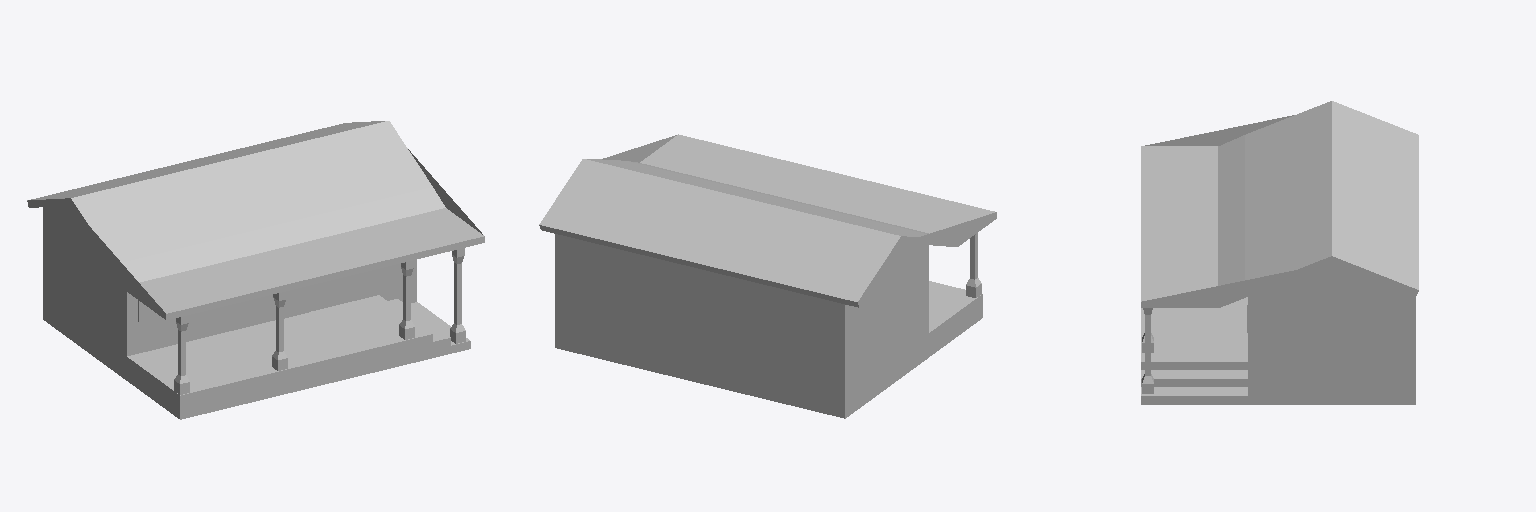
File: FullHouse3.obj
3 renders of one model, left to right at view 1: azimuth 30°, elevation 25°; view 2: azimuth 150°, elevation 25°; view 3: azimuth 270°, elevation 25°, orthographic.
Parts seen in each view (by area): view 1: FullHouse3; view 2: FullHouse3; view 3: FullHouse3.
Part boxes in pixels (x1,y1,x2,y2): FullHouse3: (27,121,484,419); FullHouse3: (539,134,996,418); FullHouse3: (1141,101,1418,404).
Size of the model in its own units: 16.37 by 7.63 by 12.4.